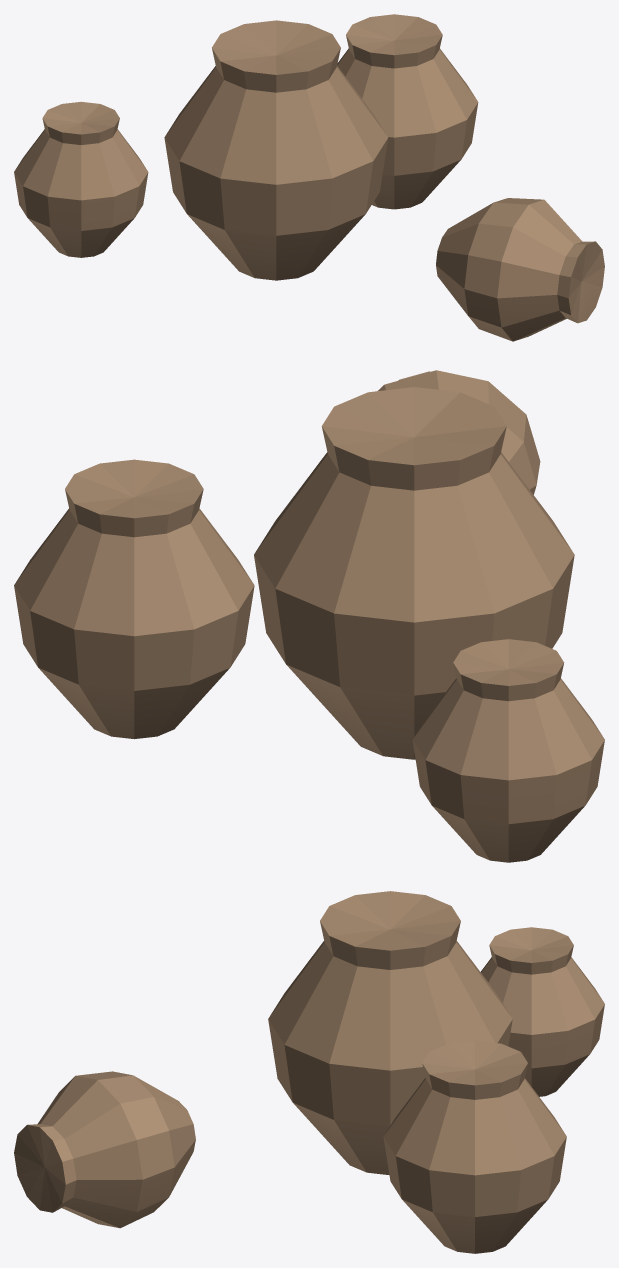
File: adb_pots.glb
The picture shows the model from 3 angles, top to bottom: view 1: azimuth 30°, elevation 25°; view 2: azimuth 150°, elevation 25°; view 3: azimuth 270°, elevation 25°; orthographic projection. The views are drawn at different scales.
Parts seen in each view (by area): view 1: adb_pots; view 2: adb_pots; view 3: adb_pots.
Part boxes in pixels (bbox=[...]): adb_pots: bbox=[14, 14, 604, 341]; adb_pots: bbox=[14, 370, 604, 862]; adb_pots: bbox=[14, 891, 604, 1253].
Size of the model in its own units: 1.12 by 0.563 by 1.26.
